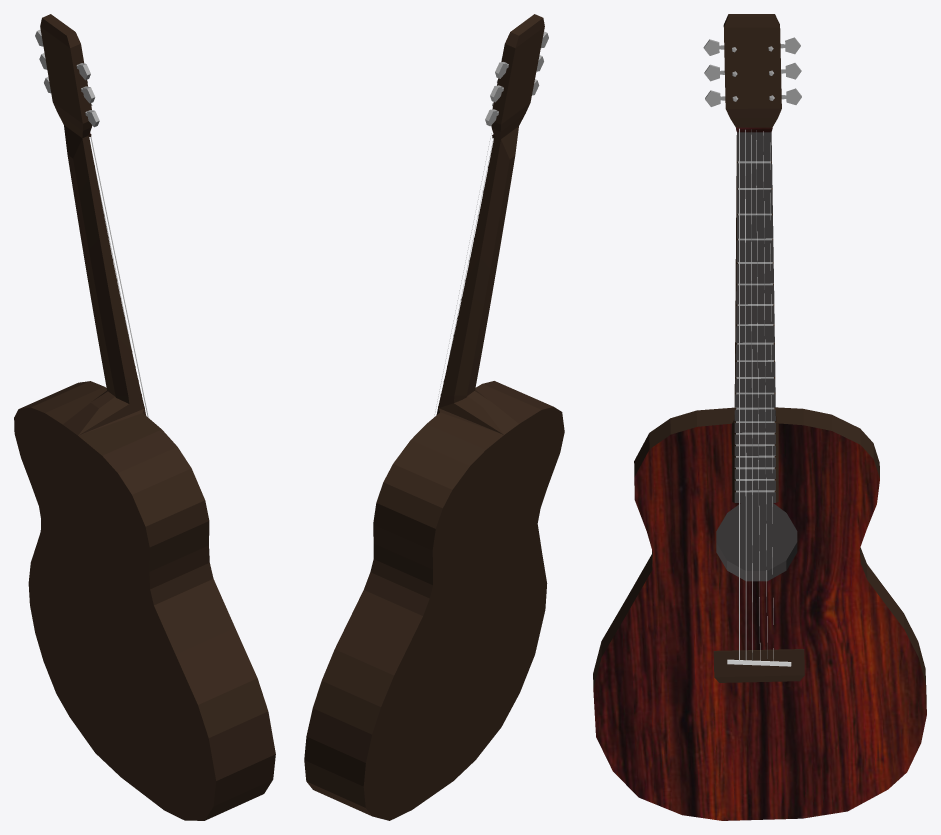
The model's file is AC_GUITAR.fbx.
The picture shows the model from 3 angles, left to right: view 1: azimuth 30°, elevation 25°; view 2: azimuth 150°, elevation 25°; view 3: azimuth 270°, elevation 25°; orthographic projection. The views are drawn at different scales.
Parts seen in each view (by area): view 1: AC_GUITAR; view 2: AC_GUITAR; view 3: AC_GUITAR.
Boxes of the visible parts, x1,y1,x2,y2 form: AC_GUITAR: (14, 14, 275, 820); AC_GUITAR: (304, 14, 564, 820); AC_GUITAR: (593, 14, 926, 820).
Size of the model in its own units: 23.84 by 118 by 47.61.
